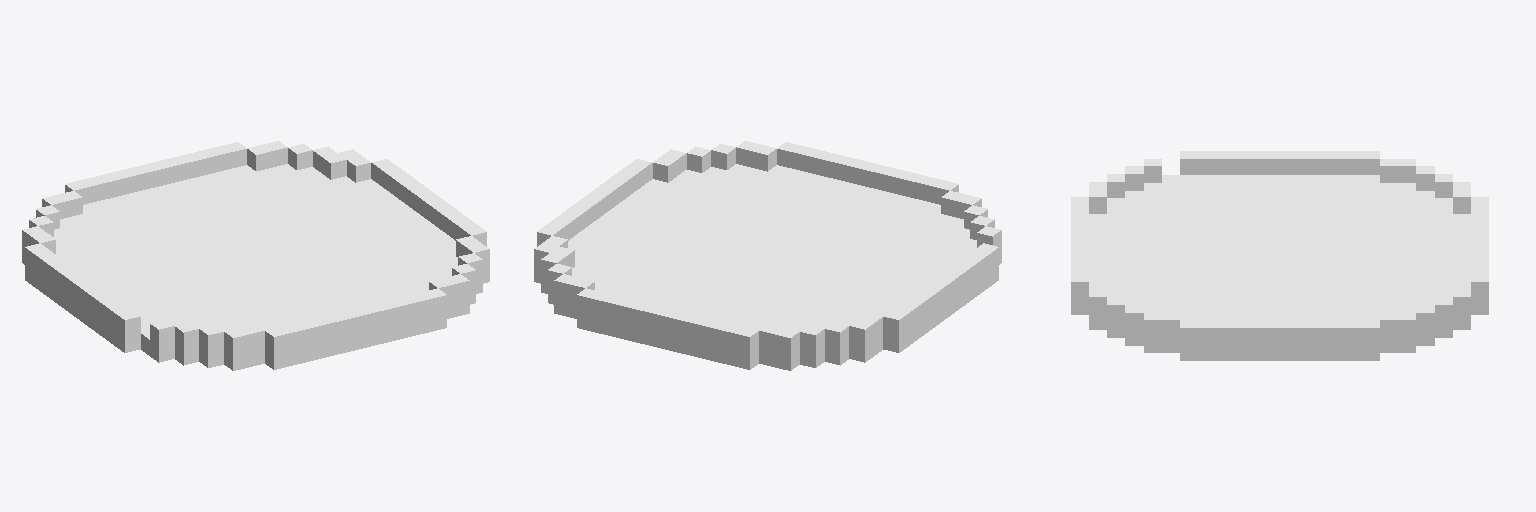
File: roundplate.obj
The picture shows the model from 3 angles: view 1: azimuth 30°, elevation 25°; view 2: azimuth 150°, elevation 25°; view 3: azimuth 270°, elevation 25°; orthographic projection.
Parts seen in each view (by area): view 1: object 1; view 2: object 1; view 3: object 1.
Part boxes in pixels (x1,y1,x2,y2): object 1: (22,141,489,370); object 1: (534,141,1001,370); object 1: (1071,151,1488,360).
Size of the model in its own units: 2.3 by 0.2 by 2.3.